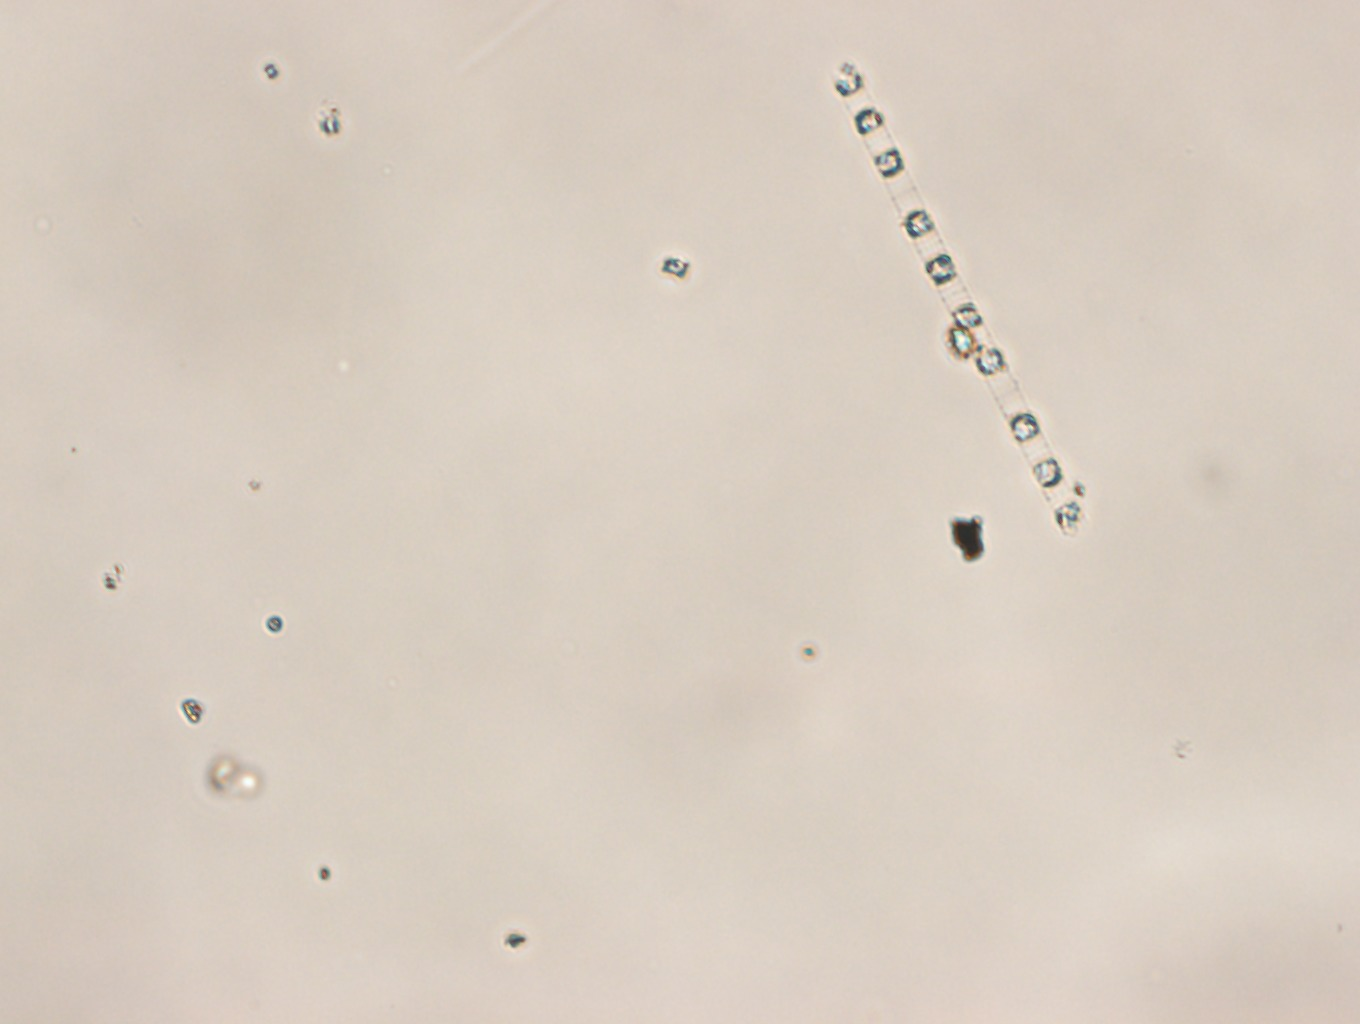skeletonema: (828, 63, 1084, 531)
